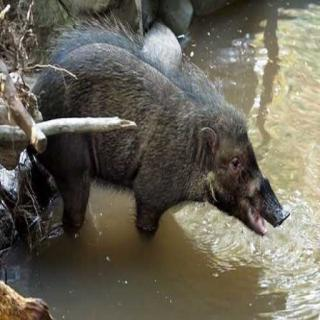Pig: (23, 20, 300, 274)
